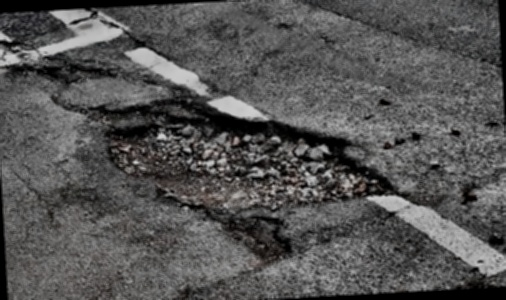pothole: (102, 90, 399, 221), (230, 212, 295, 266), (13, 55, 112, 88)
